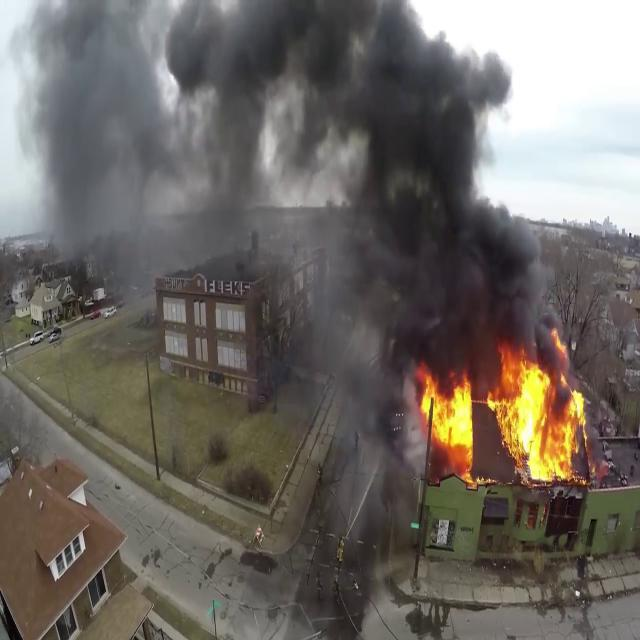Fire: (415, 345, 592, 485)
Smoke: (283, 0, 556, 379), (16, 0, 300, 280)
